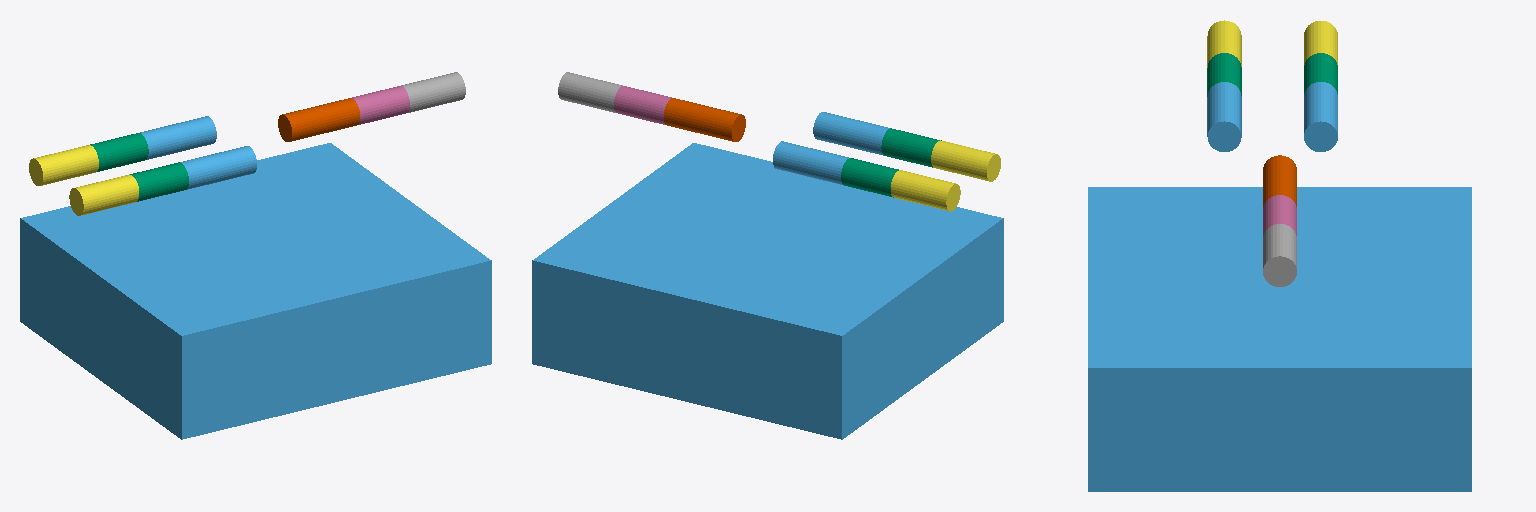
The robot description file, URDF, robot "gripper":
<?xml version="1.0" ?>
<!-- =================================================================================== -->
<!-- |    This document was autogenerated by xacro from gripper.xacro                  | -->
<!-- |    EDITING THIS FILE BY HAND IS NOT RECOMMENDED                                 | -->
<!-- =================================================================================== -->
<robot name="gripper">
  <link name="arm1_base"/>
  <link name="arm1_link1">
    <visual>
      <origin rpy="0 0 0" xyz="0 0 0.0275"/>
      <geometry>
        <cylinder length="0.055" radius="0.01"/>
      </geometry>
    </visual>
    <collision>
      <origin rpy="0 0 0" xyz="0 0 0.0275"/>
      <geometry>
        <cylinder length="0.055" radius="0.01"/>
      </geometry>
    </collision>
    <inertial>
      <origin rpy="0 0 0" xyz="0 0 0.0275"/>
      <mass value="0.1"/>
      <inertia ixx="2.770833333333333e-05" ixy="0.0" ixz="0.0" iyy="2.770833333333333e-05" iyz="0.0" izz="0.00015125000000000002"/>
    </inertial>
  </link>
  <link name="arm1_link2">
    <visual>
      <origin rpy="0 0 0" xyz="0 0 0.02"/>
      <geometry>
        <cylinder length="0.04" radius="0.01"/>
      </geometry>
    </visual>
    <collision>
      <origin rpy="0 0 0" xyz="0 0 0.02"/>
      <geometry>
        <cylinder length="0.04" radius="0.01"/>
      </geometry>
    </collision>
    <inertial>
      <origin rpy="0 0 0" xyz="0 0 0.02"/>
      <mass value="0.1"/>
      <inertia ixx="1.5833333333333333e-05" ixy="0.0" ixz="0.0" iyy="1.5833333333333333e-05" iyz="0.0" izz="8e-05"/>
    </inertial>
  </link>
  <link name="arm1_link3">
    <visual>
      <origin rpy="0 0 0" xyz="0 0 0.0225"/>
      <geometry>
        <cylinder length="0.045" radius="0.01"/>
      </geometry>
    </visual>
    <collision>
      <origin rpy="0 0 0" xyz="0 0 0.0225"/>
      <geometry>
        <cylinder length="0.045" radius="0.01"/>
      </geometry>
    </collision>
    <inertial>
      <origin rpy="0 0 0" xyz="0 0 0.0225"/>
      <mass value="0.1"/>
      <inertia ixx="1.9374999999999997e-05" ixy="0.0" ixz="0.0" iyy="1.9374999999999997e-05" iyz="0.0" izz="0.00010125"/>
    </inertial>
  </link>
  <joint name="arm1_joint1" type="revolute">
    <parent link="arm1_base"/>
    <child link="arm1_link1"/>
    <limit effort="30" lower="0" upper="3.141592653589793" velocity="1.0"/>
    <origin rpy="-1.5707963267948966 0 1.5707963267948966" xyz="-0.0235 -0.0325 0.12"/>
    <axis xyz="1 0 0"/>
  </joint>
  <joint name="arm1_joint2" type="revolute">
    <parent link="arm1_link1"/>
    <child link="arm1_link2"/>
    <limit effort="30" lower="0" upper="3.141592653589793" velocity="1.0"/>
    <origin rpy="0 0 0" xyz="0 0 0.055"/>
    <axis xyz="1 0 0"/>
  </joint>
  <joint name="arm1_joint3" type="revolute">
    <parent link="arm1_link2"/>
    <child link="arm1_link3"/>
    <limit effort="30" lower="0" upper="3.141592653589793" velocity="1.0"/>
    <origin rpy="0 0 0" xyz="0 0 0.04"/>
    <axis xyz="1 0 0"/>
  </joint>
  <link name="arm2_base"/>
  <link name="arm2_link1">
    <visual>
      <origin rpy="0 0 0" xyz="0 0 0.0275"/>
      <geometry>
        <cylinder length="0.055" radius="0.01"/>
      </geometry>
    </visual>
    <collision>
      <origin rpy="0 0 0" xyz="0 0 0.0275"/>
      <geometry>
        <cylinder length="0.055" radius="0.01"/>
      </geometry>
    </collision>
    <inertial>
      <origin rpy="0 0 0" xyz="0 0 0.0275"/>
      <mass value="0.1"/>
      <inertia ixx="2.770833333333333e-05" ixy="0.0" ixz="0.0" iyy="2.770833333333333e-05" iyz="0.0" izz="0.00015125000000000002"/>
    </inertial>
  </link>
  <link name="arm2_link2">
    <visual>
      <origin rpy="0 0 0" xyz="0 0 0.02"/>
      <geometry>
        <cylinder length="0.04" radius="0.01"/>
      </geometry>
    </visual>
    <collision>
      <origin rpy="0 0 0" xyz="0 0 0.02"/>
      <geometry>
        <cylinder length="0.04" radius="0.01"/>
      </geometry>
    </collision>
    <inertial>
      <origin rpy="0 0 0" xyz="0 0 0.02"/>
      <mass value="0.1"/>
      <inertia ixx="1.5833333333333333e-05" ixy="0.0" ixz="0.0" iyy="1.5833333333333333e-05" iyz="0.0" izz="8e-05"/>
    </inertial>
  </link>
  <link name="arm2_link3">
    <visual>
      <origin rpy="0 0 0" xyz="0 0 0.0225"/>
      <geometry>
        <cylinder length="0.045" radius="0.01"/>
      </geometry>
    </visual>
    <collision>
      <origin rpy="0 0 0" xyz="0 0 0.0225"/>
      <geometry>
        <cylinder length="0.045" radius="0.01"/>
      </geometry>
    </collision>
    <inertial>
      <origin rpy="0 0 0" xyz="0 0 0.0225"/>
      <mass value="0.1"/>
      <inertia ixx="1.9374999999999997e-05" ixy="0.0" ixz="0.0" iyy="1.9374999999999997e-05" iyz="0.0" izz="0.00010125"/>
    </inertial>
  </link>
  <joint name="arm2_joint1" type="revolute">
    <parent link="arm2_base"/>
    <child link="arm2_link1"/>
    <limit effort="30" lower="0" upper="3.141592653589793" velocity="1.0"/>
    <origin rpy="-1.5707963267948966 0 -1.5707963267948966" xyz="0.0235  0.0              0.12"/>
    <axis xyz="1 0 0"/>
  </joint>
  <joint name="arm2_joint2" type="revolute">
    <parent link="arm2_link1"/>
    <child link="arm2_link2"/>
    <limit effort="30" lower="0" upper="3.141592653589793" velocity="1.0"/>
    <origin rpy="0 0 0" xyz="0 0 0.055"/>
    <axis xyz="1 0 0"/>
  </joint>
  <joint name="arm2_joint3" type="revolute">
    <parent link="arm2_link2"/>
    <child link="arm2_link3"/>
    <limit effort="30" lower="0" upper="3.141592653589793" velocity="1.0"/>
    <origin rpy="0 0 0" xyz="0 0 0.04"/>
    <axis xyz="1 0 0"/>
  </joint>
  <link name="arm3_base"/>
  <link name="arm3_link1">
    <visual>
      <origin rpy="0 0 0" xyz="0 0 0.0275"/>
      <geometry>
        <cylinder length="0.055" radius="0.01"/>
      </geometry>
    </visual>
    <collision>
      <origin rpy="0 0 0" xyz="0 0 0.0275"/>
      <geometry>
        <cylinder length="0.055" radius="0.01"/>
      </geometry>
    </collision>
    <inertial>
      <origin rpy="0 0 0" xyz="0 0 0.0275"/>
      <mass value="0.1"/>
      <inertia ixx="2.770833333333333e-05" ixy="0.0" ixz="0.0" iyy="2.770833333333333e-05" iyz="0.0" izz="0.00015125000000000002"/>
    </inertial>
  </link>
  <link name="arm3_link2">
    <visual>
      <origin rpy="0 0 0" xyz="0 0 0.02"/>
      <geometry>
        <cylinder length="0.04" radius="0.01"/>
      </geometry>
    </visual>
    <collision>
      <origin rpy="0 0 0" xyz="0 0 0.02"/>
      <geometry>
        <cylinder length="0.04" radius="0.01"/>
      </geometry>
    </collision>
    <inertial>
      <origin rpy="0 0 0" xyz="0 0 0.02"/>
      <mass value="0.1"/>
      <inertia ixx="1.5833333333333333e-05" ixy="0.0" ixz="0.0" iyy="1.5833333333333333e-05" iyz="0.0" izz="8e-05"/>
    </inertial>
  </link>
  <link name="arm3_link3">
    <visual>
      <origin rpy="0 0 0" xyz="0 0 0.0225"/>
      <geometry>
        <cylinder length="0.045" radius="0.01"/>
      </geometry>
    </visual>
    <collision>
      <origin rpy="0 0 0" xyz="0 0 0.0225"/>
      <geometry>
        <cylinder length="0.045" radius="0.01"/>
      </geometry>
    </collision>
    <inertial>
      <origin rpy="0 0 0" xyz="0 0 0.0225"/>
      <mass value="0.1"/>
      <inertia ixx="1.9374999999999997e-05" ixy="0.0" ixz="0.0" iyy="1.9374999999999997e-05" iyz="0.0" izz="0.00010125"/>
    </inertial>
  </link>
  <joint name="arm3_joint1" type="revolute">
    <parent link="arm3_base"/>
    <child link="arm3_link1"/>
    <limit effort="30" lower="0" upper="3.141592653589793" velocity="1.0"/>
    <origin rpy="-1.5707963267948966 0 1.5707963267948966" xyz="-0.0235 0.024000000000000004 0.12"/>
    <axis xyz="1 0 0"/>
  </joint>
  <joint name="arm3_joint2" type="revolute">
    <parent link="arm3_link1"/>
    <child link="arm3_link2"/>
    <limit effort="30" lower="0" upper="3.141592653589793" velocity="1.0"/>
    <origin rpy="0 0 0" xyz="0 0 0.055"/>
    <axis xyz="1 0 0"/>
  </joint>
  <joint name="arm3_joint3" type="revolute">
    <parent link="arm3_link2"/>
    <child link="arm3_link3"/>
    <limit effort="30" lower="0" upper="3.141592653589793" velocity="1.0"/>
    <origin rpy="0 0 0" xyz="0 0 0.04"/>
    <axis xyz="1 0 0"/>
  </joint>
  <!-- Optionally, add a base link or other structure to connect the arms -->
  <link name="world"/>
  <link name="p1"/>
  <link name="p2"/>
  <link name="p3"/>
  <link name="drone">
    <collision>
      <origin rpy="0 0 0" xyz="0 0 0.02"/>
      <geometry>
        <box size="0.25 0.225 0.04"/>
      </geometry>
    </collision>
  </link>
  <link name="base">
    <visual>
      <geometry>
        <box size="0.25 0.225 0.08"/>
      </geometry>
    </visual>
    <collision>
      <origin rpy="0 0 0" xyz="0 0 0.08"/>
      <geometry>
        <box size="0.075 0.1 0.08"/>
      </geometry>
    </collision>
    <inertial>
      <origin rpy="0 0 0" xyz="0 0 0"/>
      <mass value="1.0"/>
      <inertia ixx="0.004752083333333334" ixy="0.0" ixz="0.0" iyy="0.005741666666666667" iyz="0.0" izz="0.009427083333333332"/>
    </inertial>
  </link>
  <joint name="droneFixture" type="fixed">
    <parent link="drone"/>
    <child link="base"/>
  </joint>
  <joint name="x_pos" type="prismatic">
    <origin rpy="0 0 0" xyz="0 0 -0.08"/>
    <parent link="world"/>
    <child link="p1"/>
    <axis xyz="1 0 0"/>
    <limit effort="100" lower="-100" upper="100" velocity="100"/>
  </joint>
  <joint name="y_pos" type="prismatic">
    <parent link="p1"/>
    <child link="p2"/>
    <axis xyz="0 1 0"/>
    <limit effort="100" lower="-100" upper="100" velocity="100"/>
  </joint>
  <joint name="z_pos" type="prismatic">
    <parent link="p2"/>
    <child link="p3"/>
    <axis xyz="0 0 1"/>
    <limit effort="100" lower="-100" upper="100" velocity="100"/>
  </joint>
  <joint name="base_joint" type="continuous">
    <parent link="p3"/>
    <child link="drone"/>
    <axis xyz="0 0 1"/>
    <dynamics damping="100.0" friction="0.0"/>
  </joint>
  <joint name="arm1_fix" type="fixed">
    <parent link="base"/>
    <child link="arm1_base"/>
  </joint>
  <joint name="arm2_fix" type="fixed">
    <parent link="base"/>
    <child link="arm2_base"/>
  </joint>
  <joint name="arm3_fix" type="fixed">
    <parent link="base"/>
    <child link="arm3_base"/>
  </joint>
</robot>

--- What the picture shows (computed from the rendered views, not written in the file) ---
The picture shows the robot from 3 angles, left to right: view 1: azimuth 30°, elevation 25°; view 2: azimuth 150°, elevation 25°; view 3: azimuth 270°, elevation 25°; orthographic projection.
Model gripper with 18 links and 17 joints (9 revolute, 1 continuous, 3 prismatic, 4 fixed), rooted at world, posed all joints at 0.
Links seen in each view (by area): view 1: base, arm2_link1, arm3_link1, arm1_link1, arm3_link3, arm1_link3, arm2_link3, arm1_link2, arm2_link2, arm3_link2; view 2: base, arm2_link1, arm1_link1, arm3_link1, arm1_link3, arm3_link3, arm2_link3, arm3_link2, arm2_link2, arm1_link2; view 3: base, arm1_link1, arm3_link1, arm2_link3, arm2_link1, arm1_link3, arm3_link3, arm1_link2, arm2_link2, arm3_link2.
Boxes of the visible links, x1,y1,x2,y2 form: base: (20, 143, 491, 439); arm2_link1: (278, 98, 359, 141); arm3_link1: (140, 116, 216, 159); arm1_link1: (180, 146, 256, 189); arm3_link3: (29, 145, 98, 185); arm1_link3: (69, 174, 138, 215); arm2_link3: (401, 72, 465, 112); arm1_link2: (130, 162, 188, 201); arm2_link2: (352, 86, 409, 124); arm3_link2: (90, 133, 148, 171); base: (532, 143, 1003, 439); arm2_link1: (664, 98, 745, 141); arm1_link1: (813, 112, 889, 155); arm3_link1: (773, 141, 848, 184); arm1_link3: (931, 140, 1000, 181); arm3_link3: (891, 170, 960, 211); arm2_link3: (558, 72, 622, 112); arm3_link2: (841, 158, 898, 197); arm2_link2: (614, 86, 671, 124); arm1_link2: (881, 128, 941, 167); base: (1088, 187, 1471, 491); arm1_link1: (1207, 82, 1241, 151); arm3_link1: (1304, 82, 1337, 151); arm2_link3: (1263, 224, 1296, 286); arm2_link1: (1263, 155, 1296, 206); arm1_link3: (1207, 20, 1241, 67); arm3_link3: (1304, 21, 1337, 64); arm1_link2: (1207, 53, 1241, 96); arm2_link2: (1263, 195, 1296, 235); arm3_link2: (1304, 53, 1337, 93).
Size in the robot's own frame: 0.327 by 0.225 by 0.17 metres.
Geometry: primitives only (box / cylinder / sphere), no mesh files.
